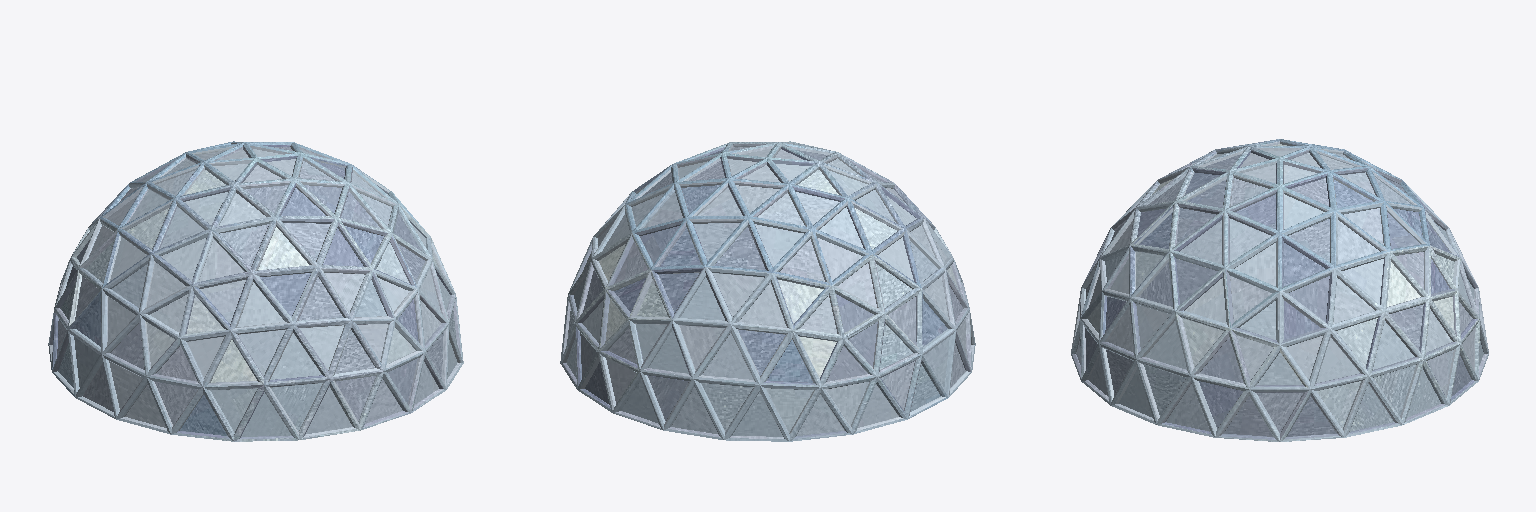
The picture shows the model from 3 angles: view 1: azimuth 30°, elevation 25°; view 2: azimuth 150°, elevation 25°; view 3: azimuth 270°, elevation 25°; orthographic projection.
Visible parts, largest first — view 1: domo2:Mesh; view 2: domo2:Mesh; view 3: domo2:Mesh.
Part boxes in pixels (x1,y1,x2,y2): domo2:Mesh: (48,141,463,441); domo2:Mesh: (560,141,975,441); domo2:Mesh: (1071,139,1488,441).
Size of the model in its own units: 66.84 by 34.8 by 66.99.
1 materials, 1 textured.